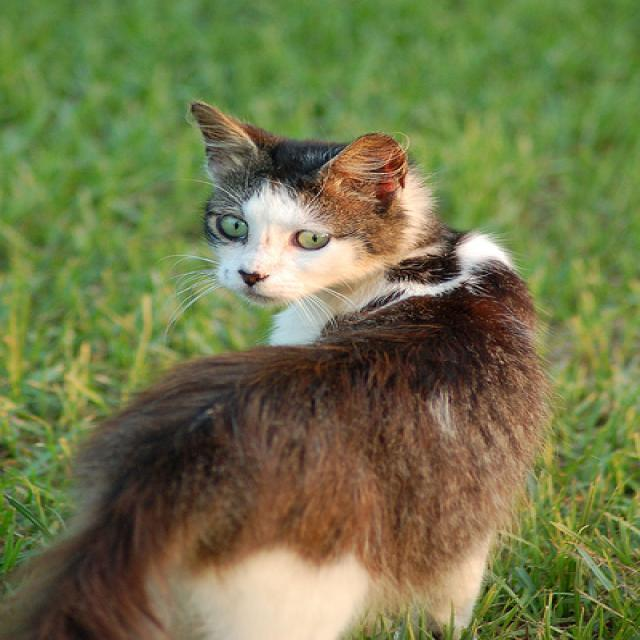cat: (1, 99, 559, 639)
